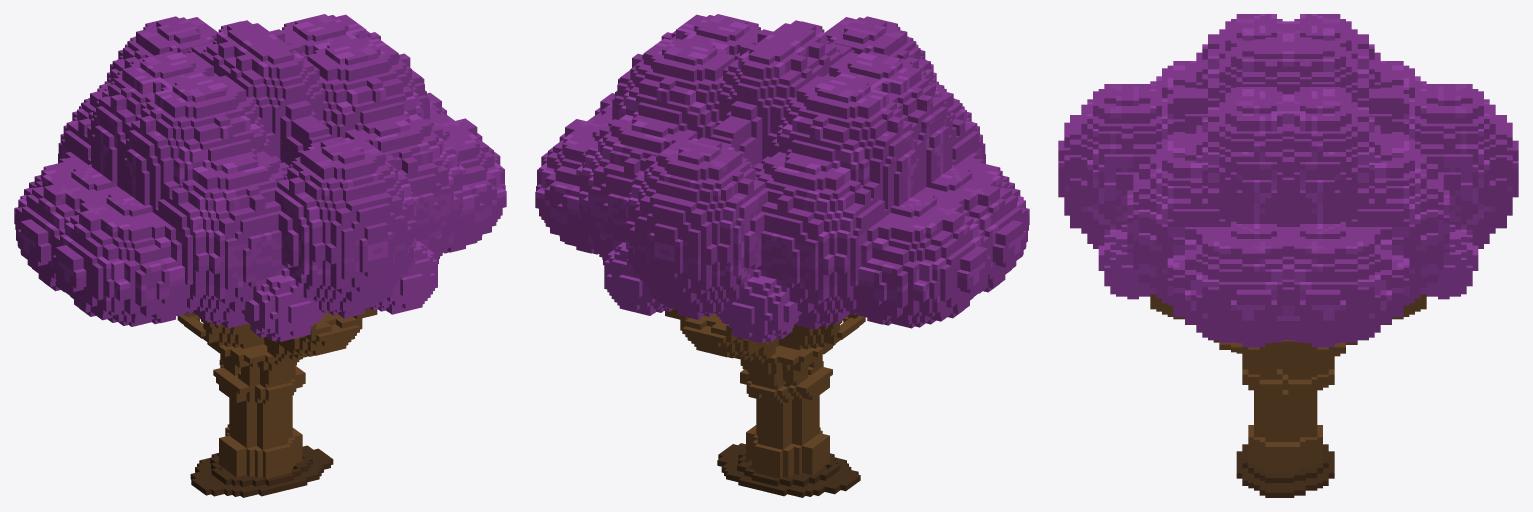
File: 1_1 ipe.obj
The picture shows the model from 3 angles, left to right: view 1: azimuth 30°, elevation 25°; view 2: azimuth 150°, elevation 25°; view 3: azimuth 270°, elevation 25°; orthographic projection. The views are drawn at different scales.
Bounding box in the file's own units: 8.4 × 8.1 × 8.
1 material, 1 textured.
